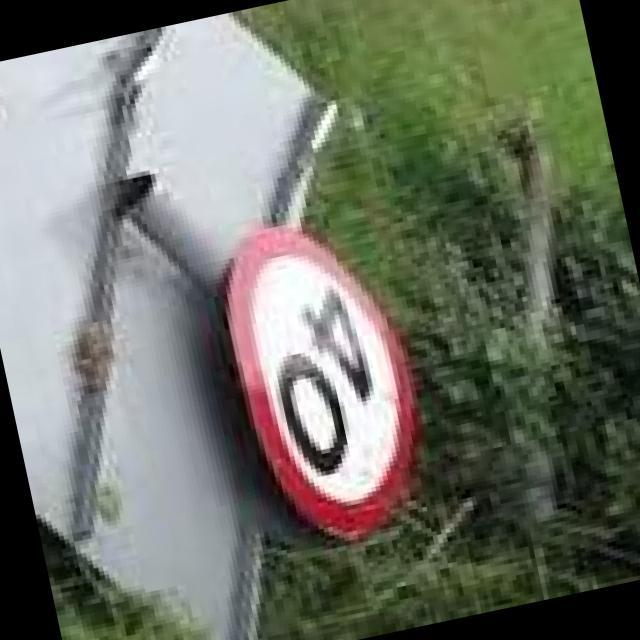obstructed_road_sign: (228, 226, 418, 539)
